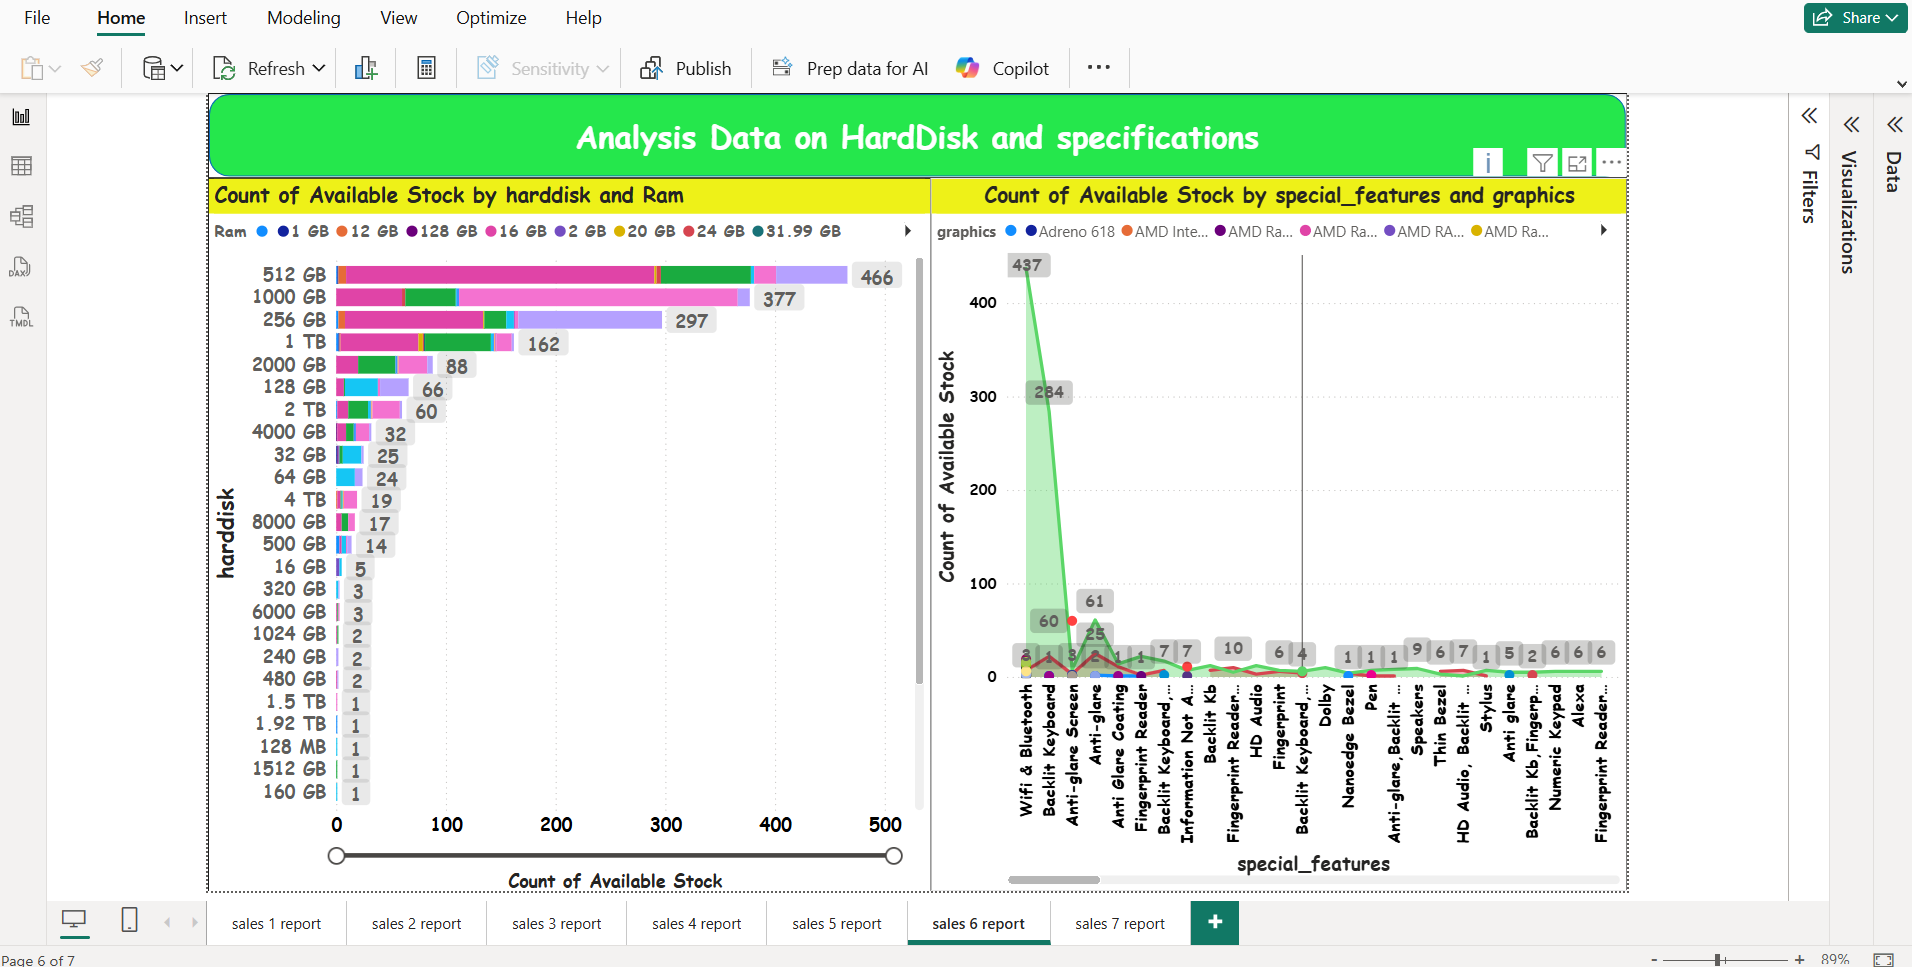

The page's visual inventory and layout, read from the dashboard file:
{"tool":"powerbi","page":{"name":"sales 6 report","canvas":[1280,720],"ordinal":5},"visuals":[{"type":"shape","box":[0,0,1279.7,76.6],"z":0},{"type":"barChart","fields":{"Y":["CountNonNull(amazon_laptop sales report project.Available Stock)"],"Category":["amazon_laptop sales report project.harddisk"],"Series":["amazon_laptop sales report project.Ram"]},"box":[0,76.6,651.9,643.9],"z":1000},{"type":"areaChart","fields":{"Y":["CountNonNull(amazon_laptop sales report project.Available Stock)"],"Category":["amazon_laptop sales report project.special_features"],"Series":["amazon_laptop sales report project.graphics"]},"box":[652,77,628,643],"z":2000}]}

Visuals, with their boxes on the page's 1280x720 design canvas (x1, y1, x2, y2). These are canvas units, not pixel positions in the 1912x967 screenshot, which may show the page scaled, cropped or inside an application window:
shape: bbox(0, 0, 1280, 77)
barChart - CountNonNull(amazon_laptop sales report project.Available Stock) x amazon_laptop sales report project.harddisk: bbox(0, 77, 652, 720)
areaChart - CountNonNull(amazon_laptop sales report project.Available Stock) x amazon_laptop sales report project.special_features: bbox(652, 77, 1280, 720)
